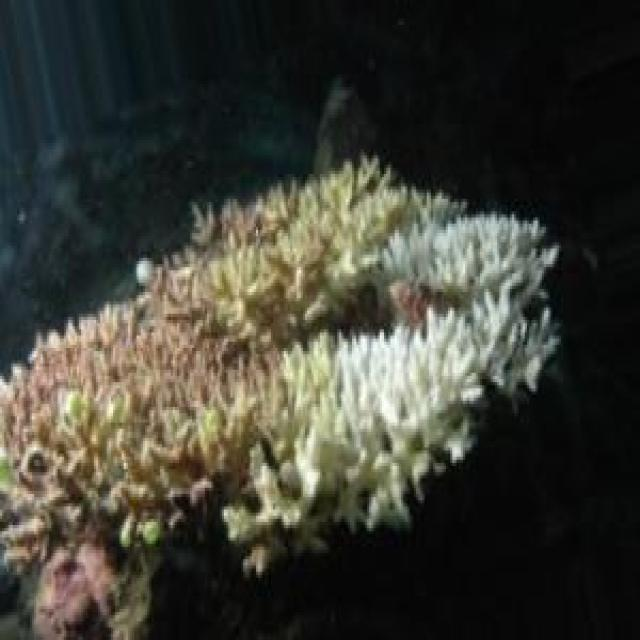bleached coral: (251, 284, 555, 554), (384, 195, 558, 390)
healthy coral: (0, 249, 282, 458)
